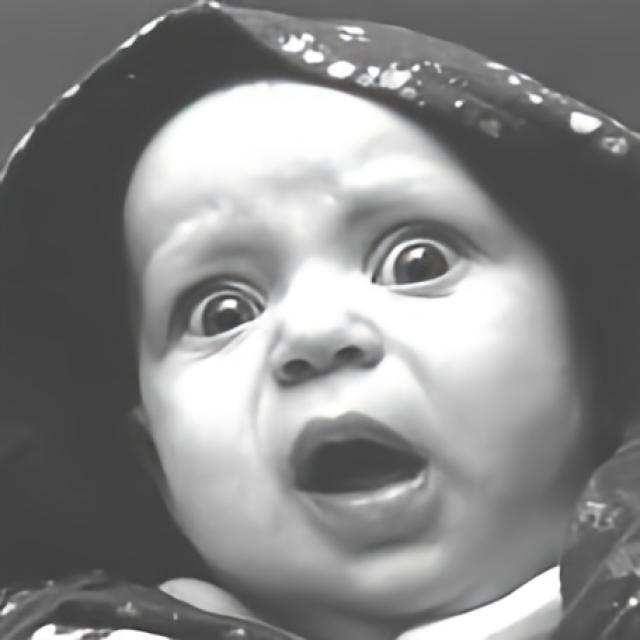fear: (121, 73, 618, 640)
